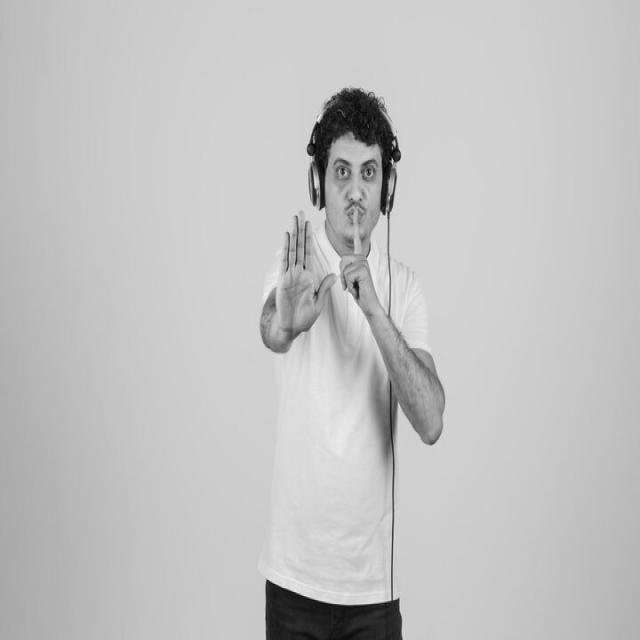stop: (272, 206, 338, 340)
